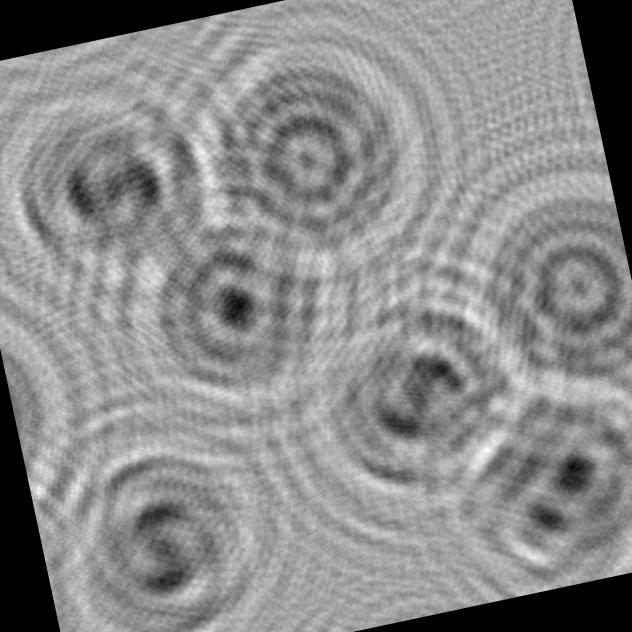P: (100, 170, 378, 447)
Q: (157, 0, 462, 296), (425, 153, 632, 441)
R: (405, 340, 632, 610)
S: (280, 243, 556, 527), (20, 395, 306, 632), (0, 63, 240, 309)
